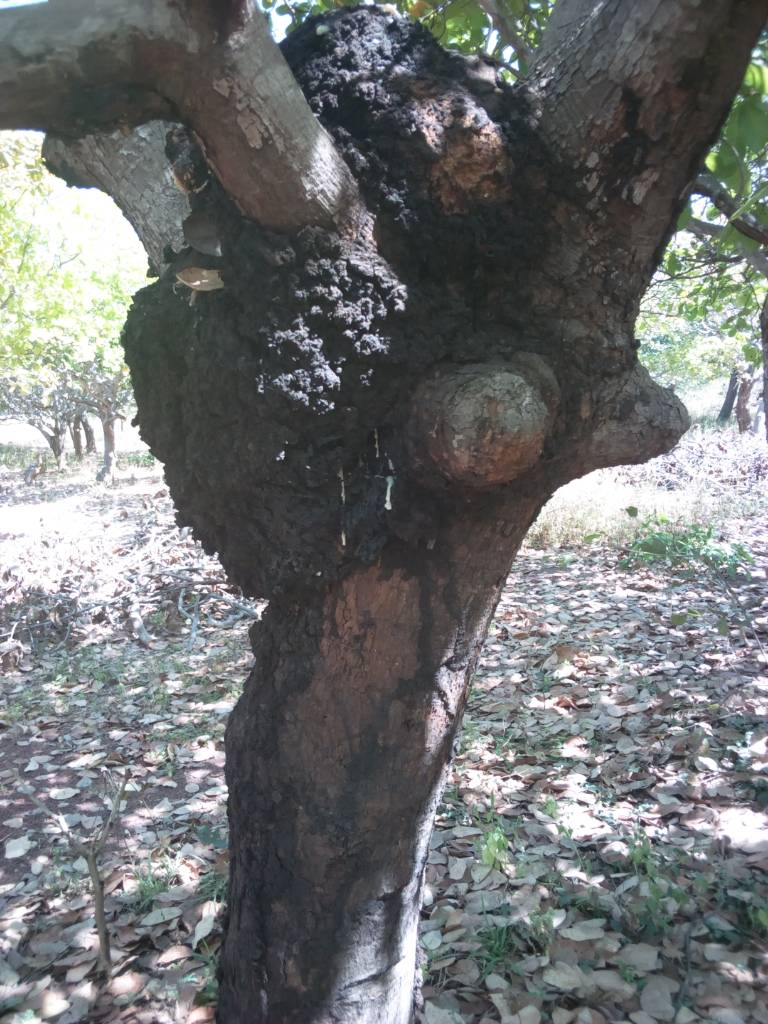Termites: (124, 260, 396, 578), (238, 578, 421, 1024), (299, 3, 471, 164), (427, 217, 560, 355)
